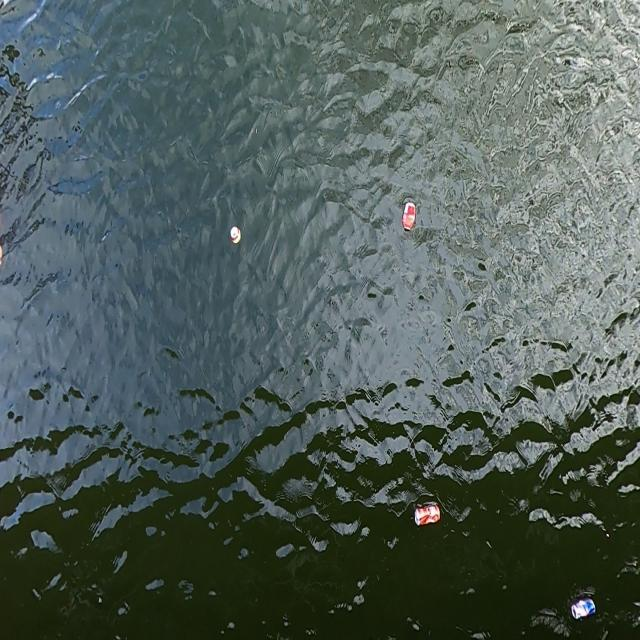Non plastique: (411, 501, 445, 531), (567, 596, 599, 627), (400, 198, 419, 239), (229, 223, 244, 248)
